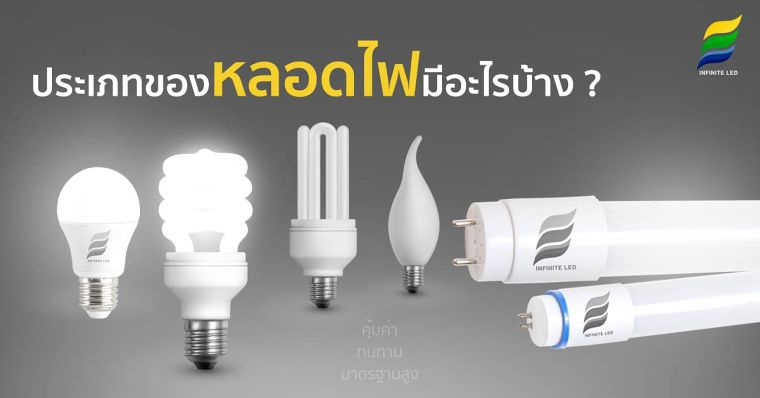Light_bulb: (446, 189, 760, 282), (153, 145, 260, 366), (513, 273, 760, 355), (52, 162, 144, 331), (289, 117, 356, 314), (382, 129, 445, 299)
